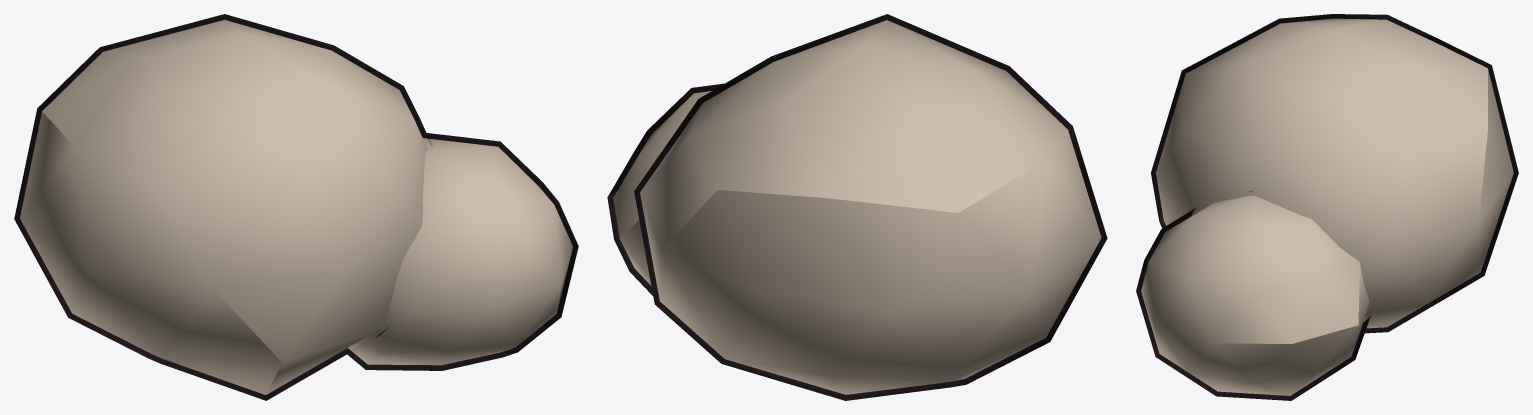
File: SM_Bush_02.fbx
3 renders of one model, left to right at view 1: azimuth 30°, elevation 25°; view 2: azimuth 150°, elevation 25°; view 3: azimuth 270°, elevation 25°, orthographic. The views are drawn at different scales.
Visible parts, largest first — view 1: SM_Bush_02; view 2: SM_Bush_02; view 3: SM_Bush_02.
Part boxes in pixels (x1,y1,x2,y2): SM_Bush_02: (14,14,578,400); SM_Bush_02: (607,14,1107,400); SM_Bush_02: (1136,14,1518,400).
Size of the model in its own units: 1.49 by 1.03 by 1.2.
